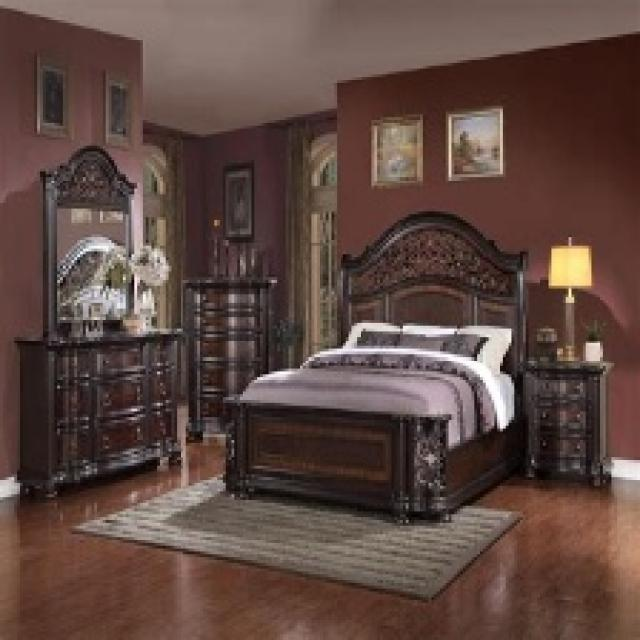Bed: (220, 208, 529, 523)
